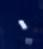Squash-Ball: (1, 0, 43, 49)
